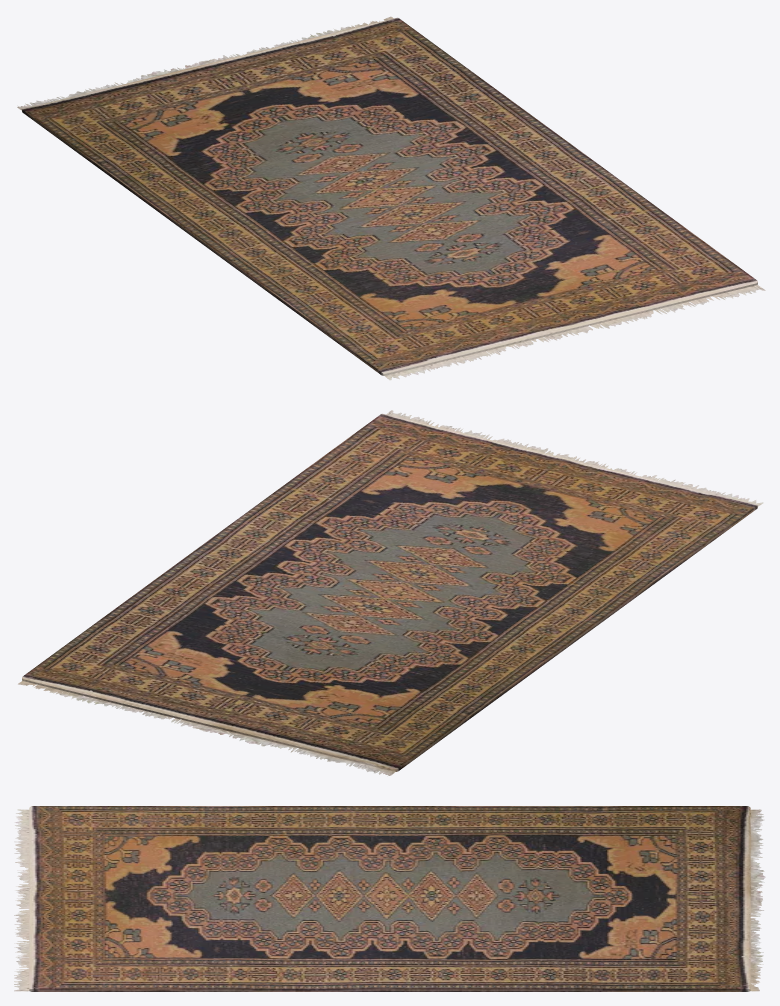
File: persian_rug.glb
The picture shows the model from 3 angles, top to bottom: view 1: azimuth 30°, elevation 25°; view 2: azimuth 150°, elevation 25°; view 3: azimuth 270°, elevation 25°; orthographic projection.
Visible parts, largest first — view 1: rug01_MDL_nar; view 2: rug01_MDL_nar; view 3: rug01_MDL_nar.
Boxes of the visible parts, x1,y1,x2,y2 form: rug01_MDL_nar: [17, 16, 765, 380]; rug01_MDL_nar: [18, 410, 763, 776]; rug01_MDL_nar: [14, 806, 765, 991].
Size of the model in its own units: 300 by 2.16 by 521.
1 material, 1 textured.
